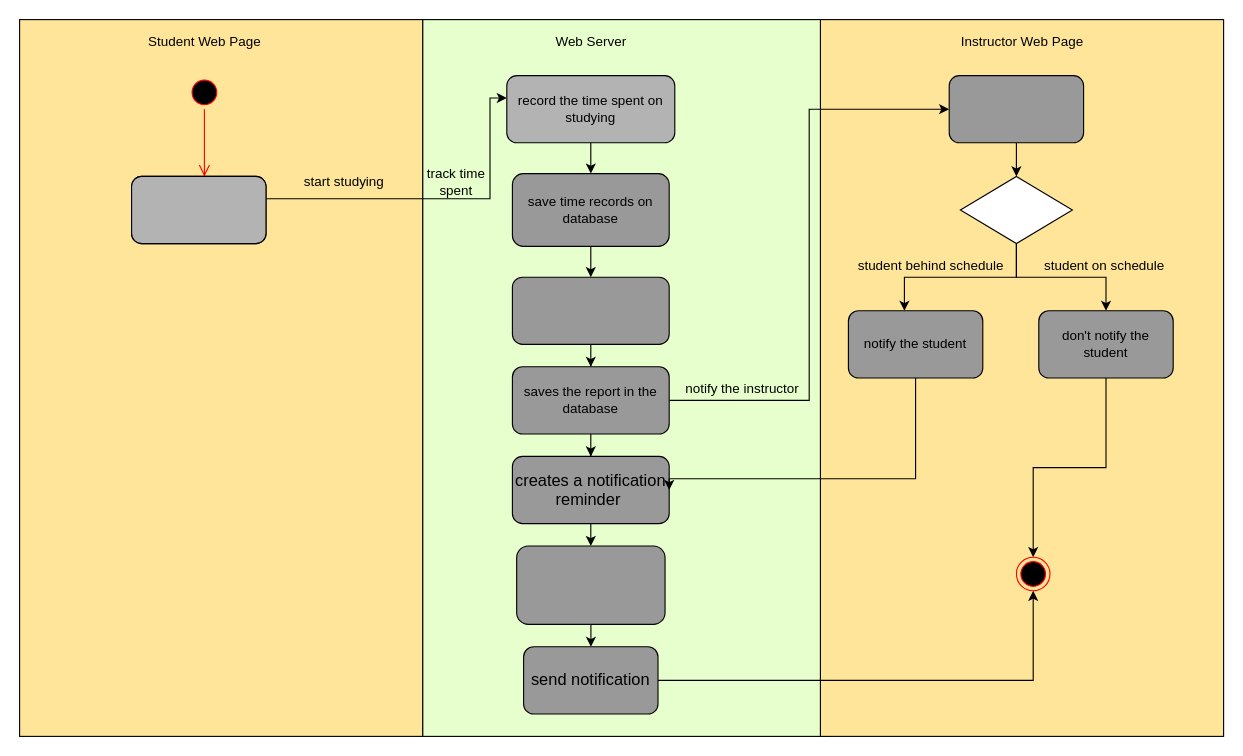
The diagram is 1243 pixels wide and 756 high, and some of its shapes have lost their labels. Here are the shapes that lost their labels. From the top down, the centre of each, then its label:
pixel 1016 108: recieve the report
pixel 198 209: log into LMS
pixel 590 310: generate weekly report
pixel 590 584: reads the notification preferences of the user
